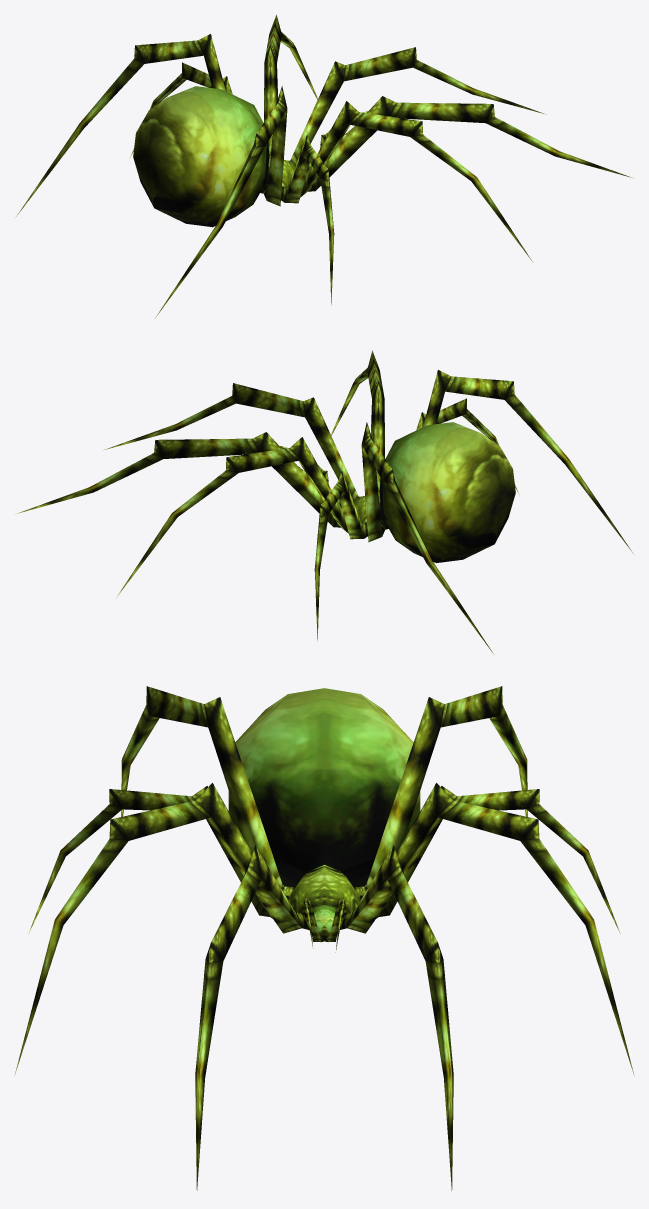
3 renders of one model, top to bottom at view 1: azimuth 30°, elevation 25°; view 2: azimuth 150°, elevation 25°; view 3: azimuth 270°, elevation 25°, orthographic. The views are drawn at different scales.
Parts seen in each view (by area): view 1: display_2541; view 2: display_2541; view 3: display_2541.
Boxes of the visible parts, box(x1,y1,x2,y2) form: display_2541: box(15, 15, 633, 318); display_2541: box(16, 350, 633, 653); display_2541: box(14, 686, 634, 1190).
Bounding box in the file's own units: 6.08 × 1.96 × 4.39.
1 material, 1 textured.
